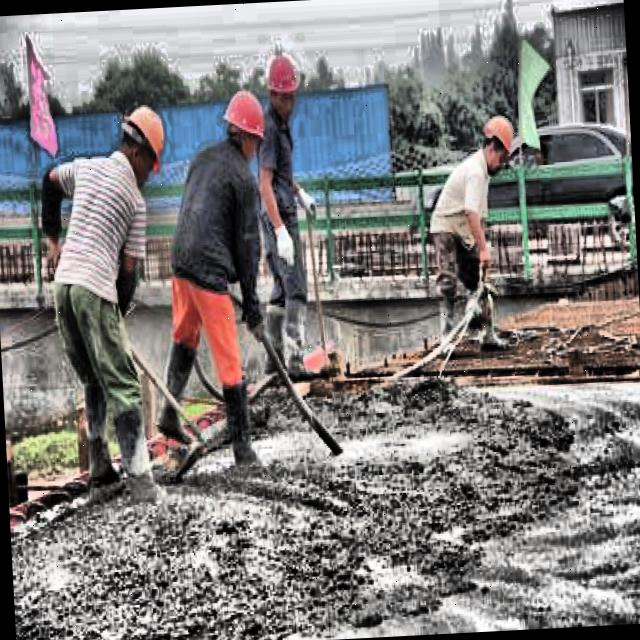helmet: (114, 100, 174, 186), (221, 84, 269, 162), (262, 47, 302, 121), (479, 111, 520, 170)
